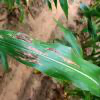Corn leaf blight: (1, 28, 100, 95), (53, 17, 85, 59)
